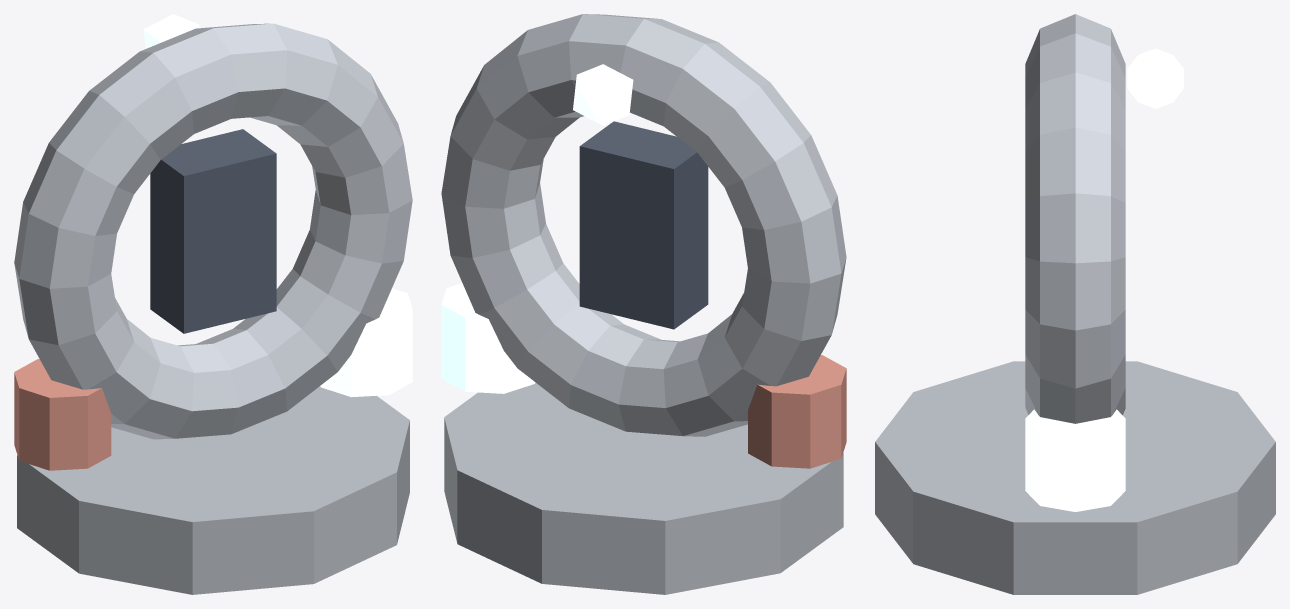
File: turret_magnet.glb
3 views of the same model, side by side, from view 1: azimuth 30°, elevation 25°; view 2: azimuth 150°, elevation 25°; view 3: azimuth 270°, elevation 25° (orthographic).
Parts seen in each view (by area): view 1: turret_magnet; view 2: turret_magnet; view 3: turret_magnet.
Part boxes in pixels (x1=…): turret_magnet: x1=14, y1=14, x2=412, y2=594; turret_magnet: x1=441, y1=14, x2=846, y2=594; turret_magnet: x1=875, y1=14, x2=1275, y2=594.
Bounding box in the file's own units: 0.67 × 0.795 × 0.6.
